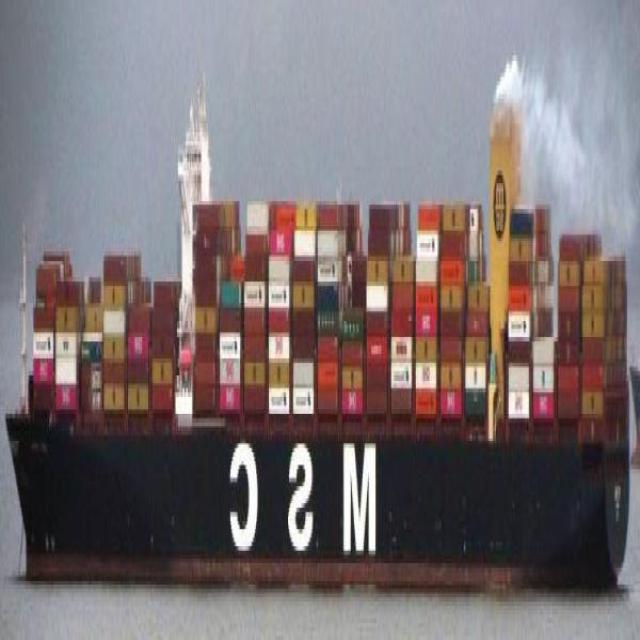Container Ship: (4, 51, 636, 591)
